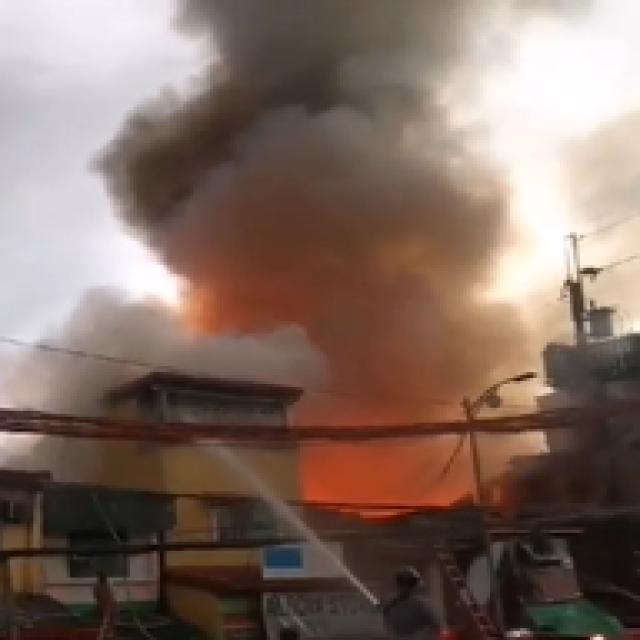Fire: (310, 438, 468, 504)
Smoke: (128, 118, 494, 304), (178, 0, 482, 165), (69, 302, 524, 370)
